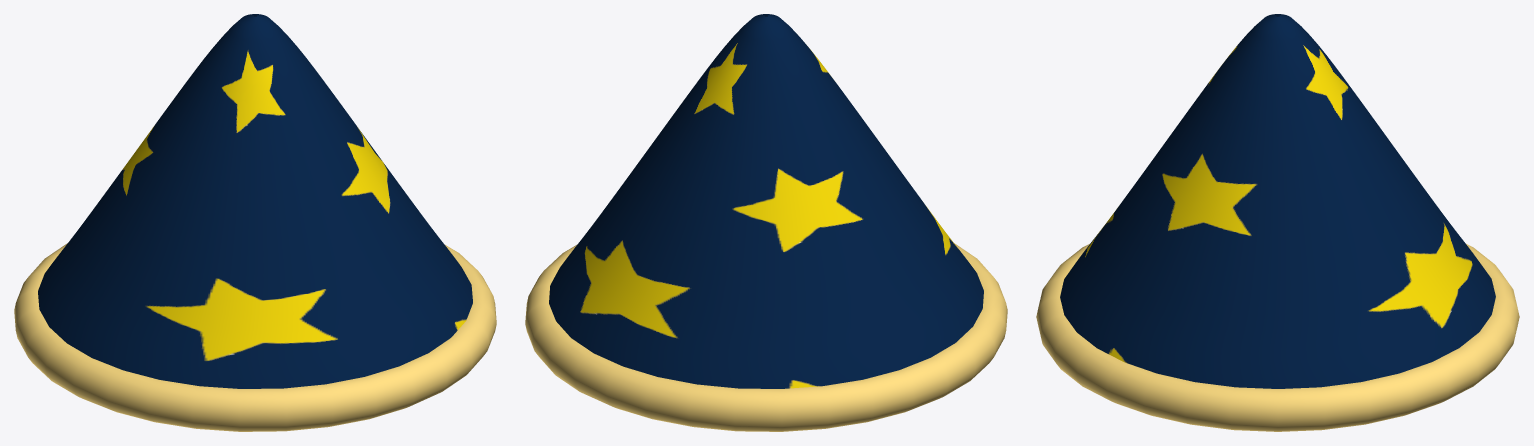
File: wizard.glb
3 renders of one model, left to right at view 1: azimuth 30°, elevation 25°; view 2: azimuth 150°, elevation 25°; view 3: azimuth 270°, elevation 25°, orthographic.
Parts seen in each view (by area): view 1: node-0; view 2: node-0; view 3: node-0.
Part boxes in pixels (x1=…): node-0: x1=14, y1=14, x2=496, y2=431; node-0: x1=525, y1=14, x2=1007, y2=431; node-0: x1=1036, y1=14, x2=1519, y2=431.
Bounding box in the file's own units: 429 × 314 × 429.
2 materials, 1 textured.
